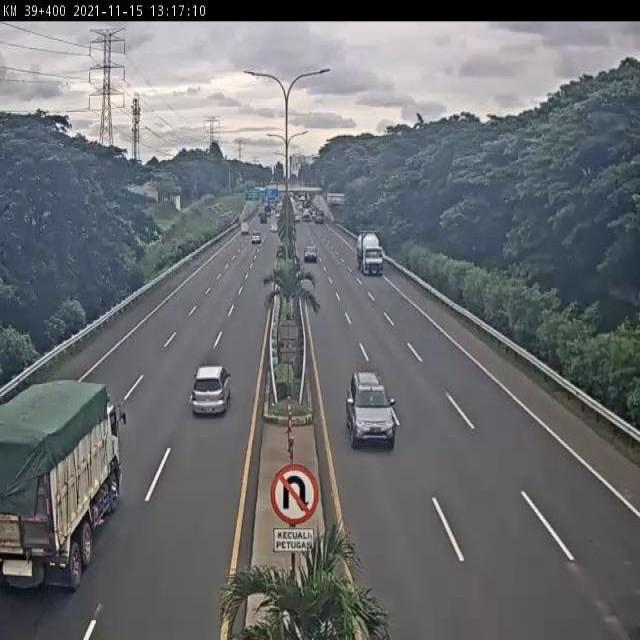car: (342, 369, 400, 452), (190, 360, 233, 419)
truck-l-: (0, 376, 124, 595)
truck-xl-: (354, 231, 387, 277)
